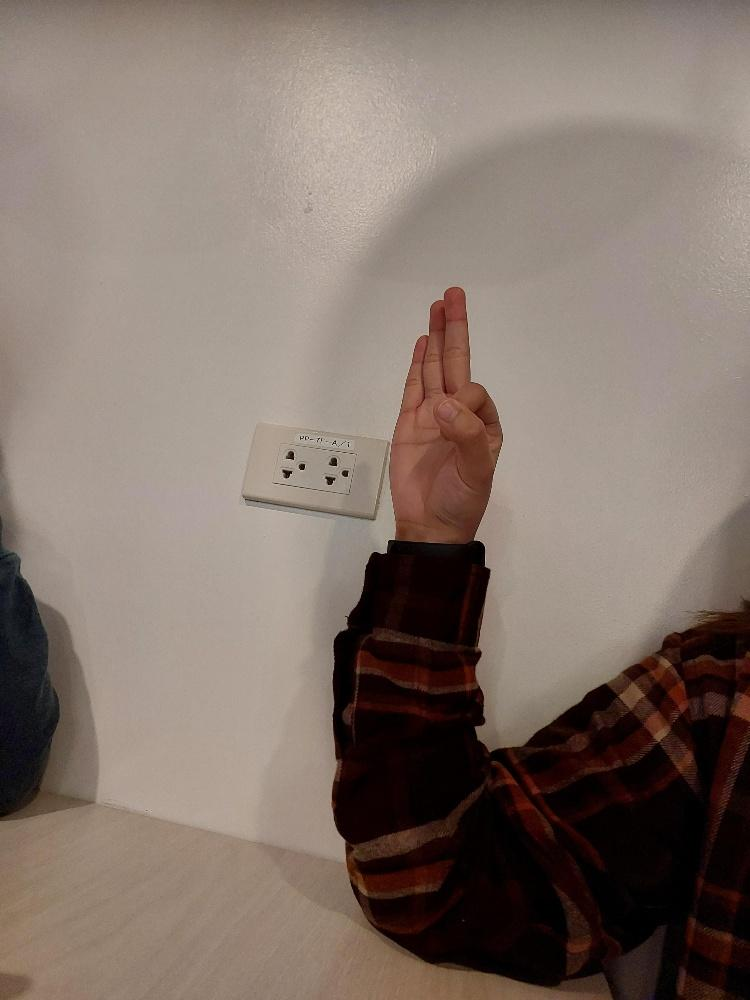f: (385, 281, 508, 550)
